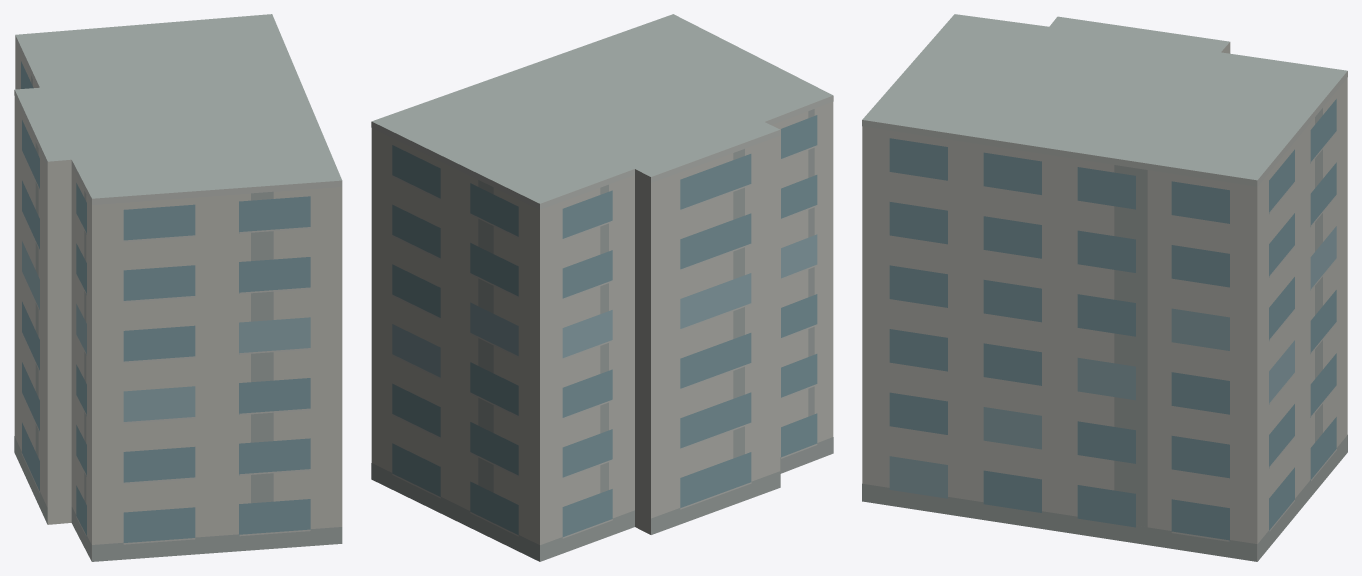
Rendered from survey-upis-32893507.glb.
3 renders of one model, left to right at view 1: azimuth 30°, elevation 25°; view 2: azimuth 150°, elevation 25°; view 3: azimuth 270°, elevation 25°, orthographic. The views are drawn at different scales.
Visible parts, largest first — view 1: survey-upis-32893507.tmp; view 2: survey-upis-32893507.tmp; view 3: survey-upis-32893507.tmp.
Part boxes in pixels (left/top/right/bottom): survey-upis-32893507.tmp: left=14, top=14, right=342, bottom=561; survey-upis-32893507.tmp: left=371, top=14, right=833, bottom=561; survey-upis-32893507.tmp: left=862, top=14, right=1347, bottom=561.
Size of the model in its own units: 13.38 by 14.3 by 16.51.
